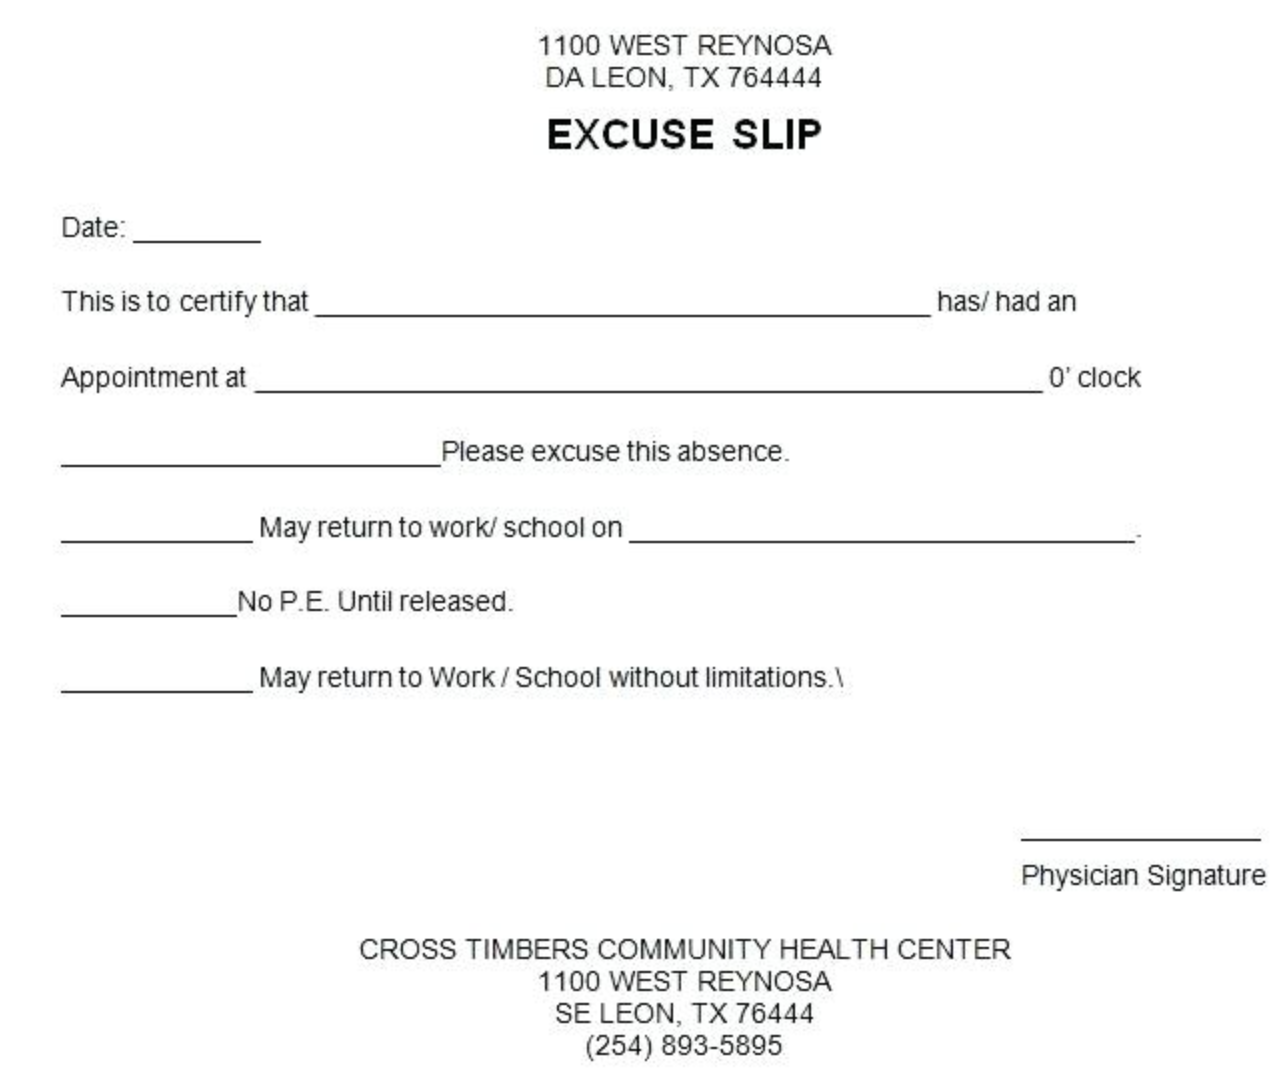textline: (248, 343, 1051, 400), (623, 486, 1142, 558), (307, 268, 937, 321), (58, 425, 446, 477), (1012, 783, 1274, 852), (55, 657, 260, 710), (58, 500, 260, 549), (56, 580, 243, 629), (128, 205, 270, 248)
